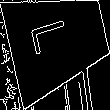L_E: (34, 20, 82, 63)
